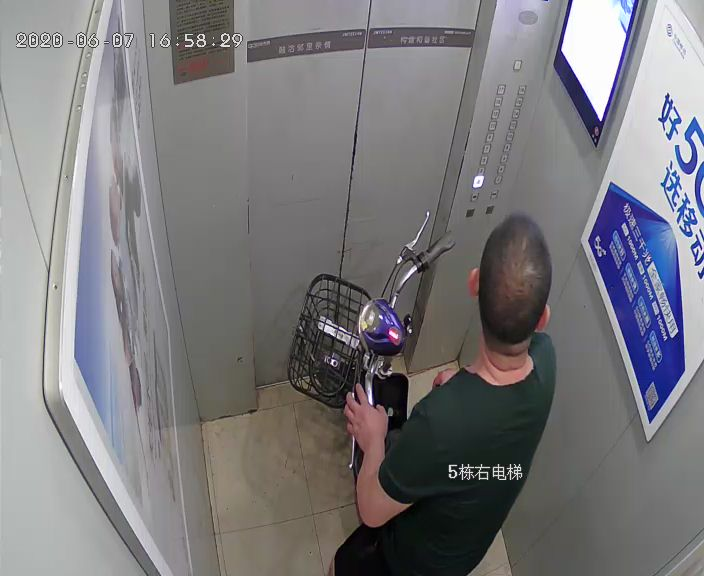Electric-bicycle: (289, 211, 455, 479)
